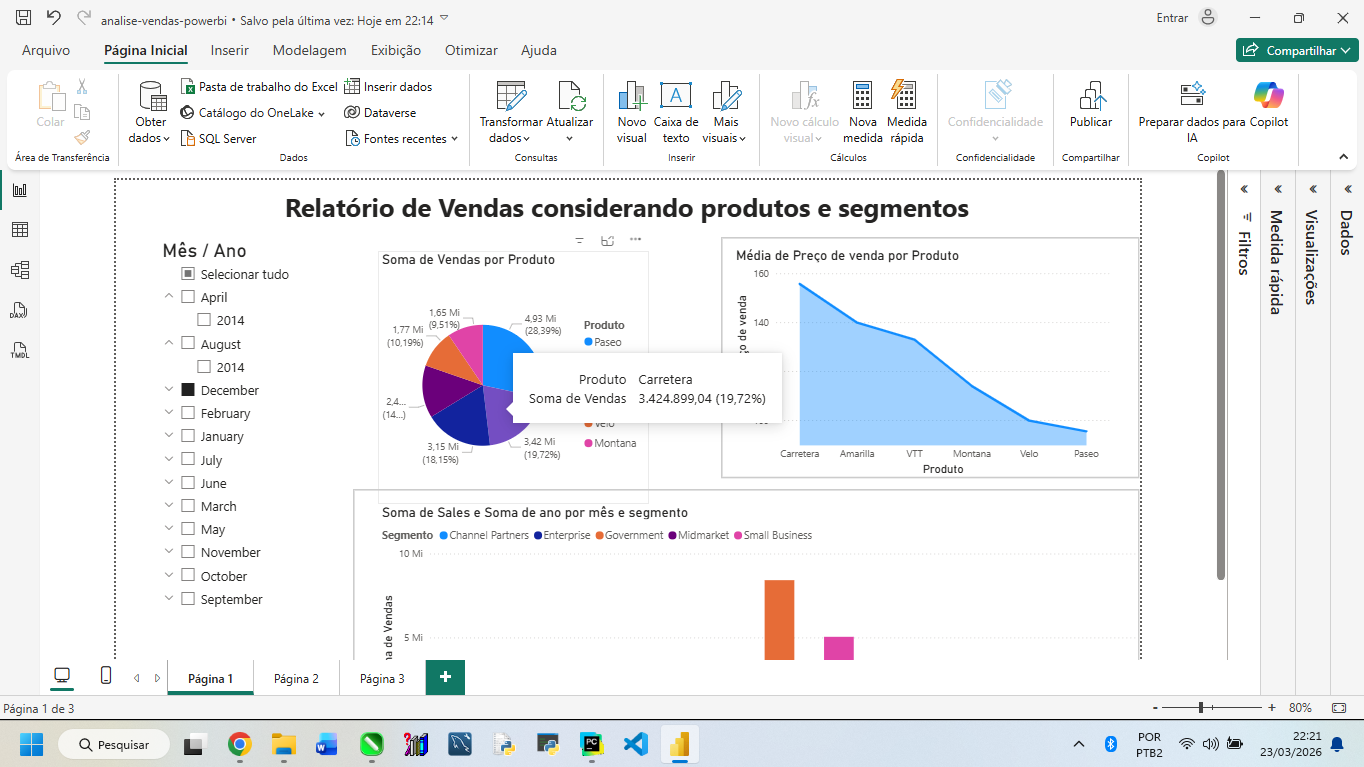

The page's visual inventory and layout, read from the dashboard file:
{"tool":"powerbi","page":{"name":"Página 1","canvas":[1280,720],"ordinal":0},"visuals":[{"type":"pieChart","fields":{"Y":["Sum(Sheet1. Sales)"],"Category":["Sheet1.Product"]},"box":[327.1,88.1,339.1,316.7],"z":1000},{"type":"areaChart","fields":{"Category":["Sheet1.Product"],"Y":["Avg(Sheet1.Sale Price)"]},"box":[770,83.3,476.7,290],"z":2000},{"type":"clusteredColumnChart","title":"Soma de  Sales e Soma de ano por mês e segmento","fields":{"Y":["Sum(Sheet1. Sales)"],"Category":["Sheet1.Month Name"],"Series":["Sheet1.Segment"]},"box":[327.1,404.8,953,315.2],"z":3000},{"type":"slicer","fields":{"Values":["Sheet1.Month Name","Sheet1.Year"]},"box":[45,68.3,198.3,493.3],"z":4000},{"type":"textbox","box":[16.4,6,1244.3,64.2],"z":5000}]}

Visuals, with their boxes on the page's 1280x720 design canvas (x1, y1, x2, y2). These are canvas units, not pixel positions in the 1364x767 screenshot, which may show the page scaled, cropped or inside an application window:
pieChart - Sum(Sheet1. Sales) x Sheet1.Product: 327:88:666:405
areaChart - Sheet1.Product x Avg(Sheet1.Sale Price): 770:83:1247:373
"Soma de  Sales e Soma de ano por mês e segmento" clusteredColumnChart: 327:405:1280:720
slicer - Sheet1.Month Name x Sheet1.Year: 45:68:243:562
textbox: 16:6:1261:70
